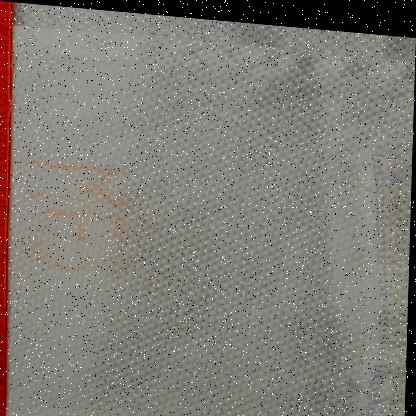spot: (28, 244, 130, 277), (37, 157, 117, 172), (83, 183, 123, 203), (49, 208, 120, 219), (31, 189, 82, 201), (111, 218, 129, 239), (74, 216, 90, 239), (43, 213, 59, 233), (91, 171, 114, 184)
